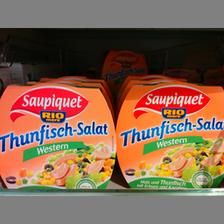Fisch: (0, 82, 116, 190), (115, 80, 223, 188)
